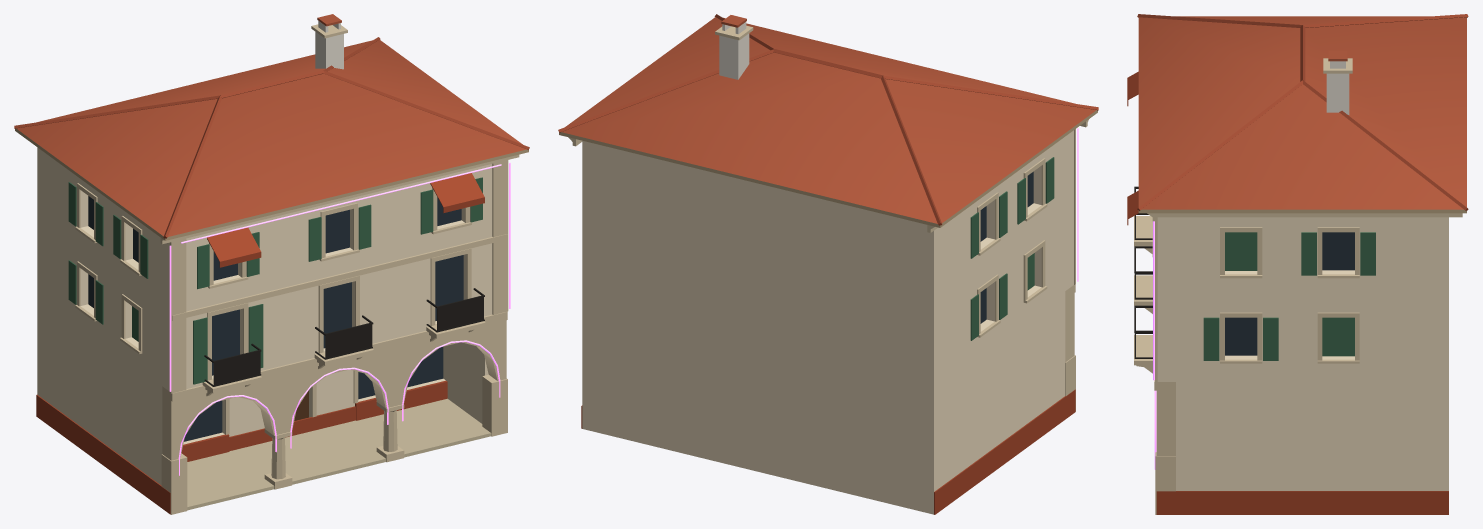
The picture shows the model from 3 angles, left to right: view 1: azimuth 30°, elevation 25°; view 2: azimuth 150°, elevation 25°; view 3: azimuth 270°, elevation 25°; orthographic projection. The views are drawn at different scales.
Visible parts, largest first — view 1: house_sw.lod1; view 2: house_sw.lod1; view 3: house_sw.lod1.
Boxes of the visible parts, bbox=[...] form: house_sw.lod1: bbox=[14, 14, 529, 514]; house_sw.lod1: bbox=[558, 14, 1098, 514]; house_sw.lod1: bbox=[1127, 14, 1468, 514].
Size of the model in its own units: 14.2 by 13.91 by 10.5.
